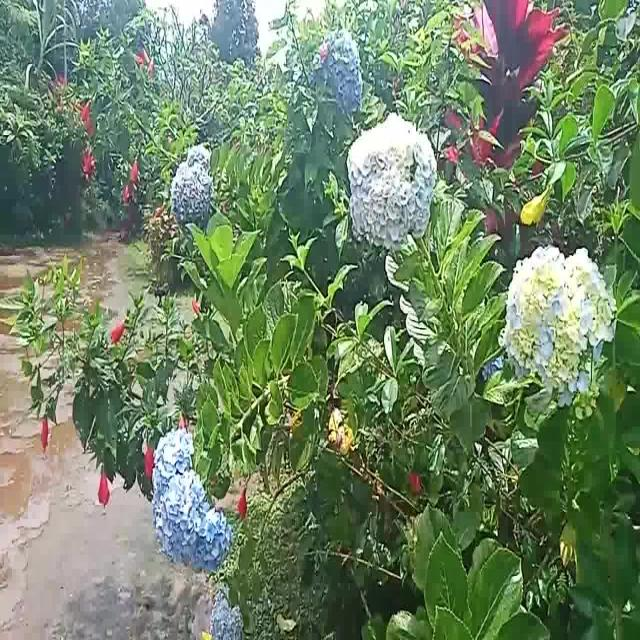Flower: (503, 242, 615, 407), (345, 107, 439, 253), (154, 426, 231, 572), (315, 24, 365, 105), (171, 140, 215, 224), (209, 588, 247, 640), (97, 459, 113, 513), (40, 406, 51, 455), (144, 435, 154, 483), (112, 315, 125, 348), (239, 486, 247, 519)
